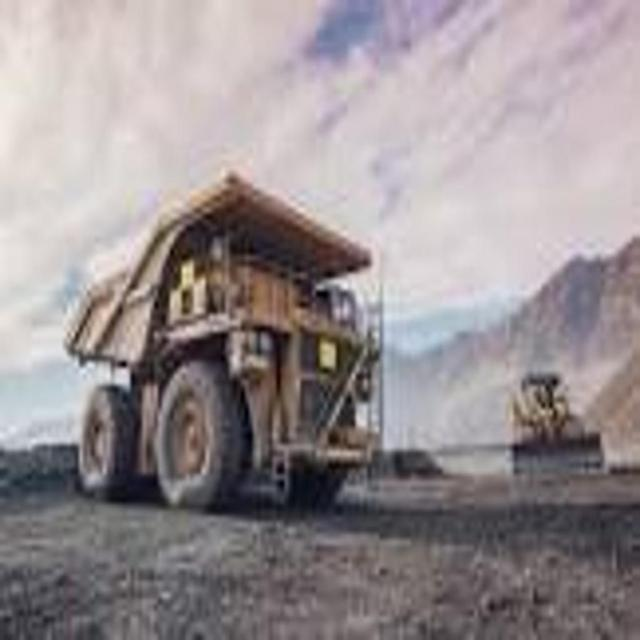dump_truck: (67, 158, 395, 520)
